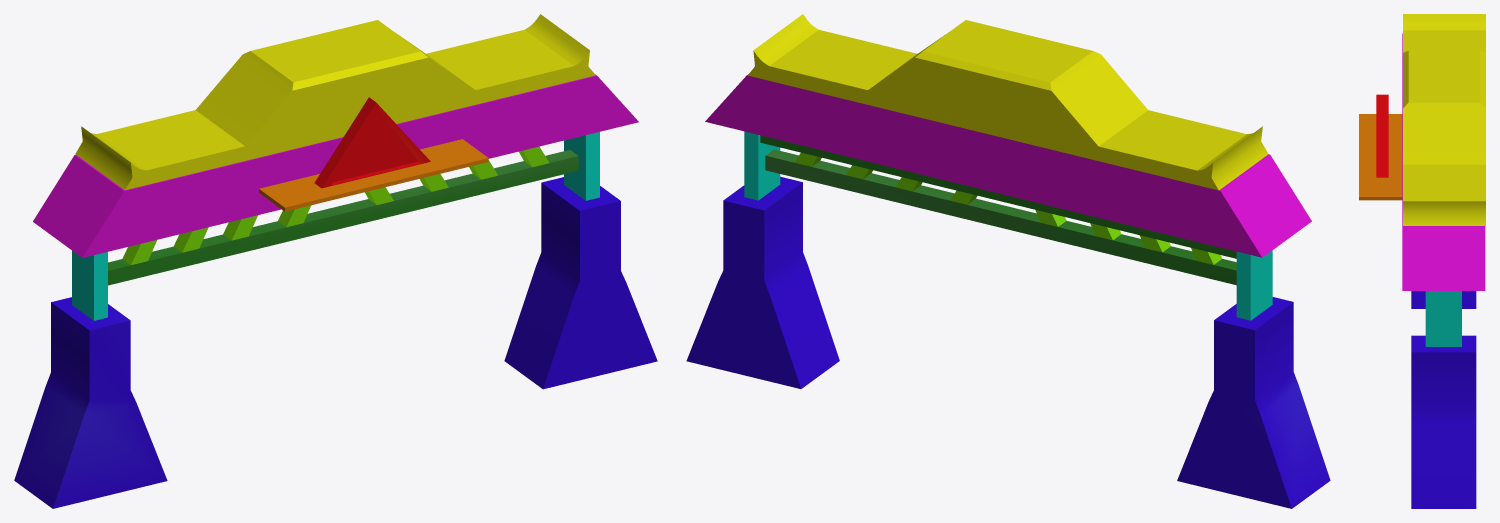
File: Gate Arena 2.fbx
3 views of the same model, side by side, from view 1: azimuth 30°, elevation 25°; view 2: azimuth 150°, elevation 25°; view 3: azimuth 270°, elevation 25° (orthographic). The views are drawn at different scales.
Visible parts, largest first — view 1: Cube.001; view 2: Cube.001; view 3: Cube.001.
Part boxes in pixels (box(x1,y1,x2,y2)): Cube.001: box(14, 14, 657, 508); Cube.001: box(686, 14, 1330, 508); Cube.001: box(1359, 14, 1485, 508).
Size of the model in its own units: 1406 by 821 by 306.
